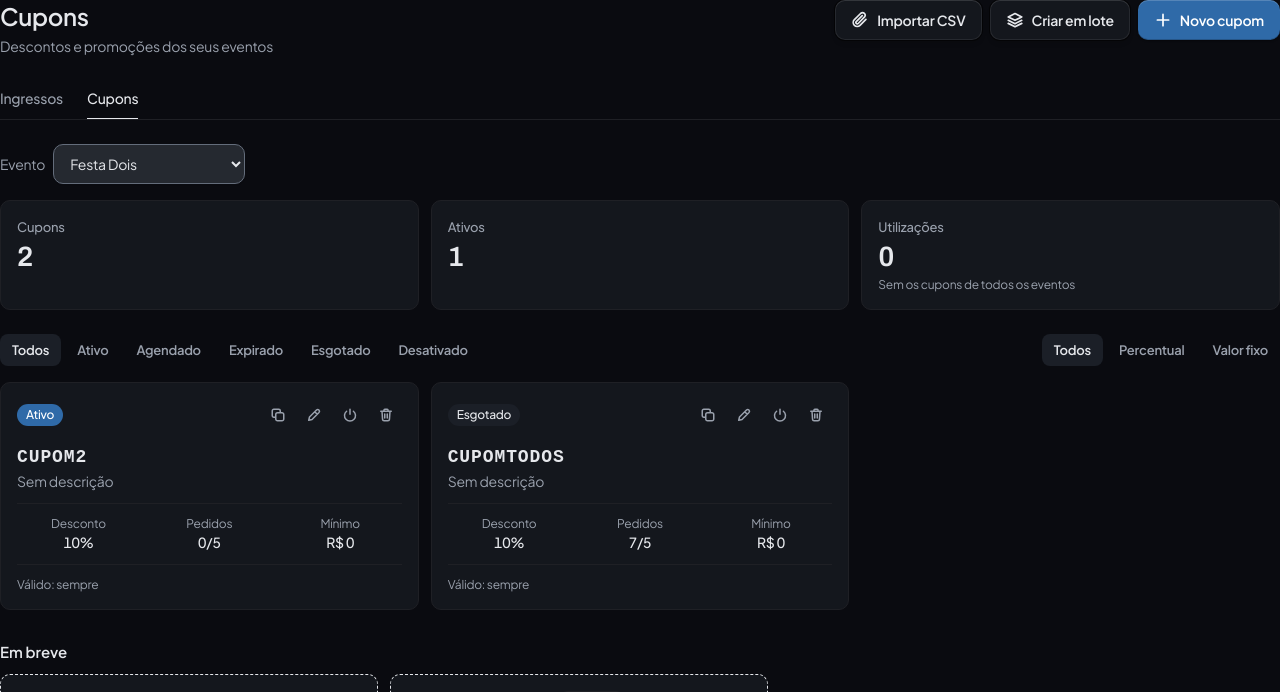
Test: Filtro por ?eventId= › Novo cupom pré-preenche o evento da URL quando é do produtor
Step 1. Click the button "Novo cupom" → (1209, 20), box 1138,0 -> 1279,40
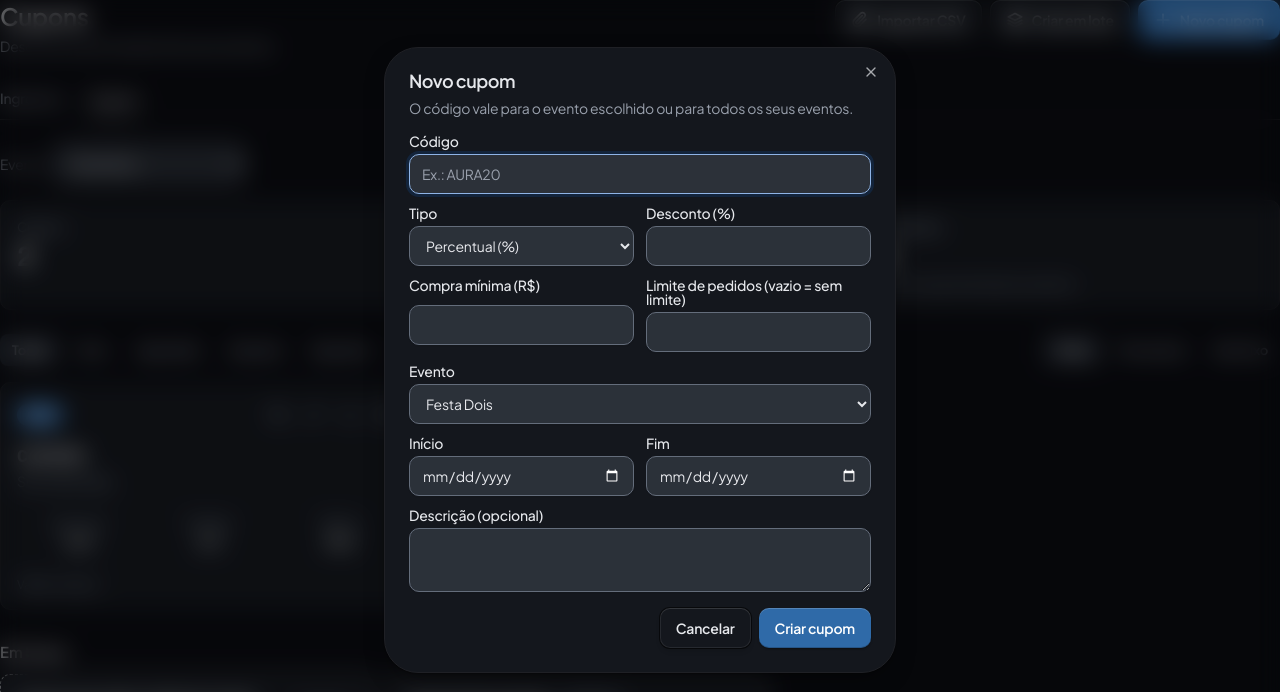
Result: the dropdown labelled "Evento" shows "Festa Dois" at 409,384 -> 871,424
